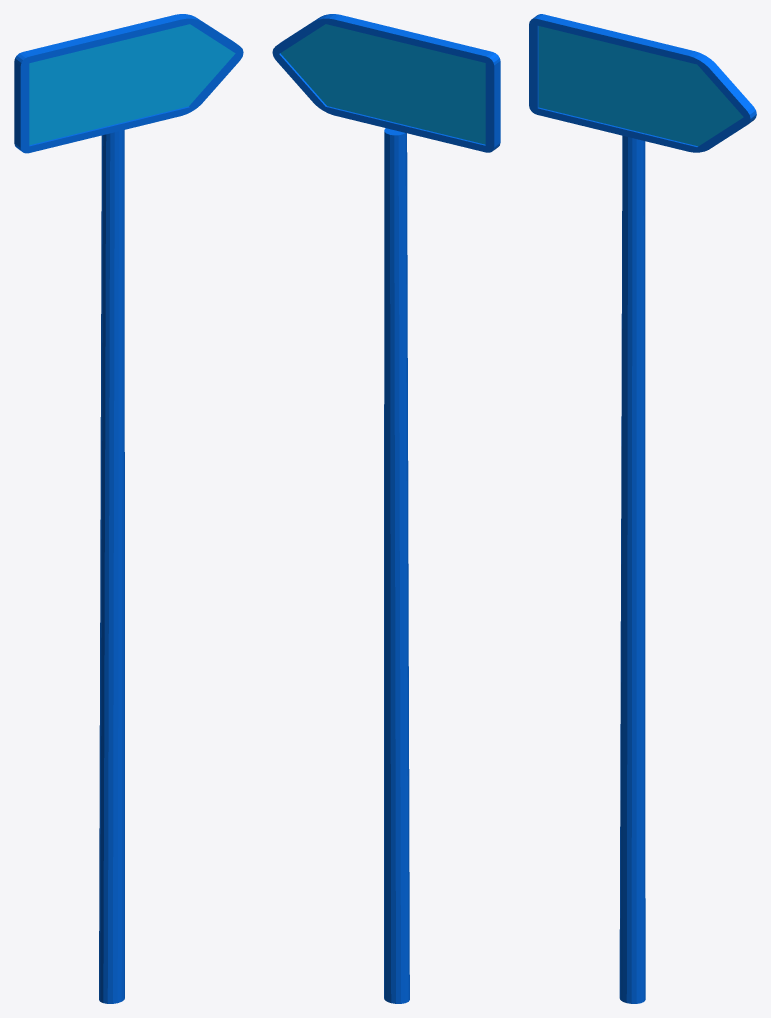
The model's file is Highscore.fbx.
3 views of the same model, side by side, from view 1: azimuth 30°, elevation 25°; view 2: azimuth 150°, elevation 25°; view 3: azimuth 330°, elevation 25° (orthographic).
Parts seen in each view (by area): view 1: Highscore; view 2: Highscore; view 3: Highscore.
Boxes of the visible parts, x1,y1,x2,y2 form: Highscore: (14, 14, 243, 1003); Highscore: (272, 14, 500, 1003); Highscore: (529, 14, 756, 1003).
Size of the model in its own units: 353 by 1467 by 33.61.
